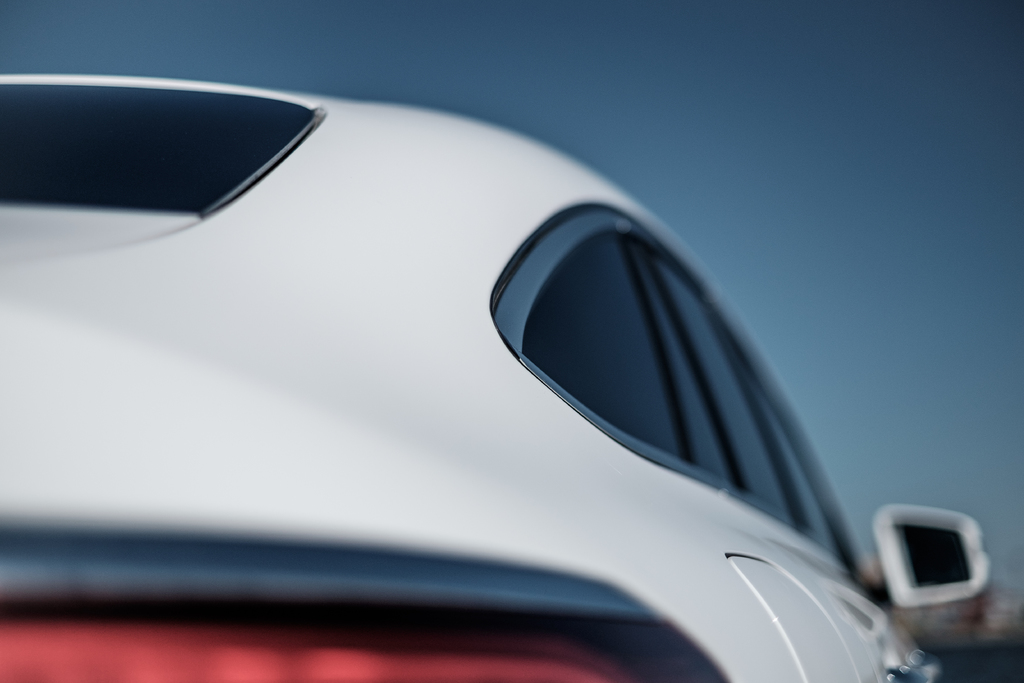Car: (0, 53, 924, 666)
